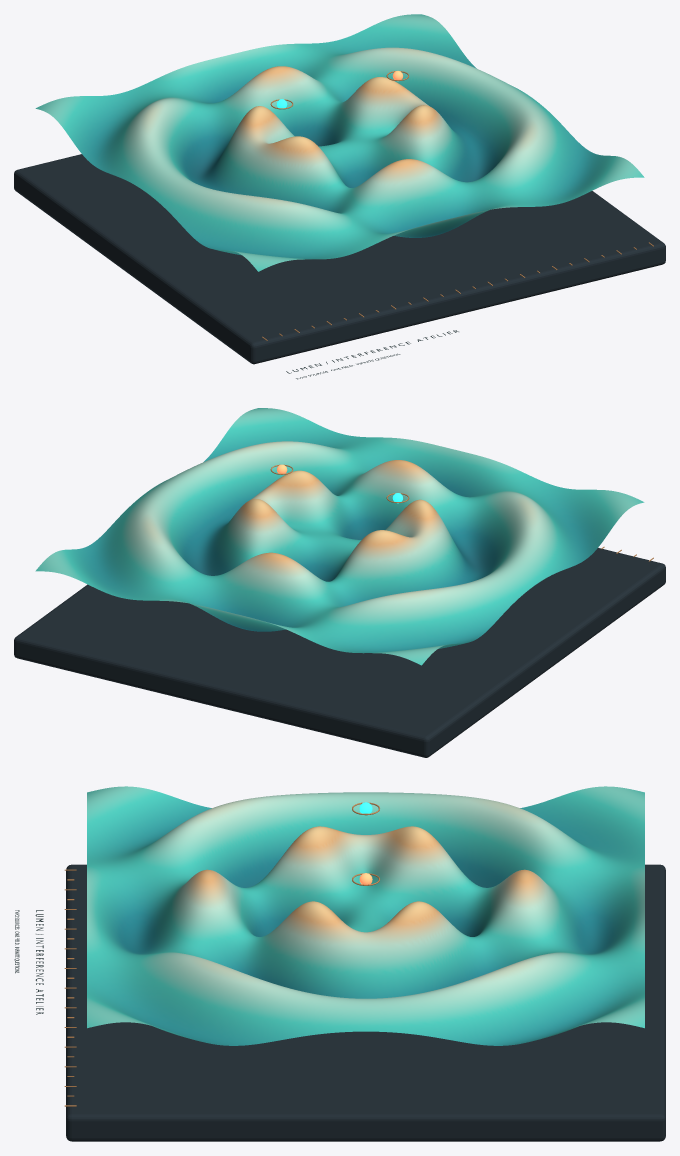
File: lumen.draco.glb
3 views of the same model, one above another, from view 1: azimuth 30°, elevation 25°; view 2: azimuth 150°, elevation 25°; view 3: azimuth 270°, elevation 25° (orthographic). The views are drawn at different scales.
Parts seen in each view (by area): view 1: Wave_Surface___select_me_to_tinker, The_measurement_stage; view 2: Wave_Surface___select_me_to_tinker, The_measurement_stage; view 3: Wave_Surface___select_me_to_tinker, The_measurement_stage.
Boxes of the visible parts, box(x1,y1,x2,y2) form: Wave_Surface___select_me_to_tinker: box(35, 14, 644, 271); The_measurement_stage: box(14, 154, 665, 364); Wave_Surface___select_me_to_tinker: box(35, 408, 644, 665); The_measurement_stage: box(14, 548, 665, 757); Wave_Surface___select_me_to_tinker: box(87, 786, 644, 1045); The_measurement_stage: box(66, 864, 665, 1141).
Size of what is drawn, in the model's own units: 12.9 by 4.36 by 14.02.
